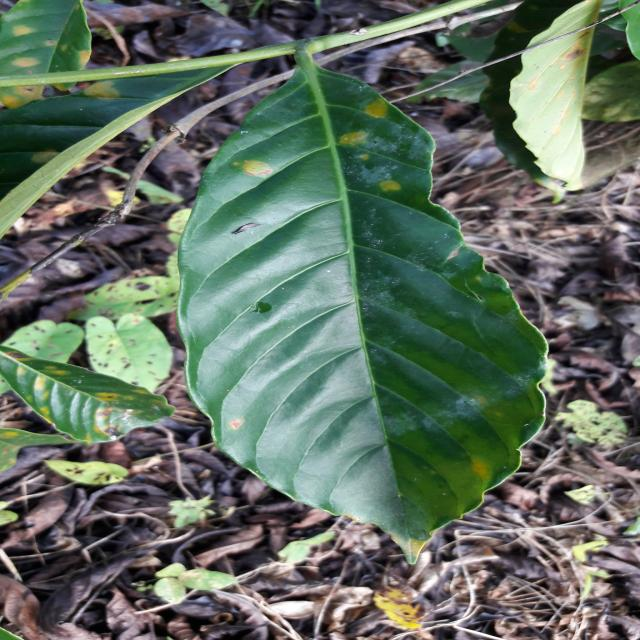Enfermedad-Roya: (176, 47, 551, 562)
